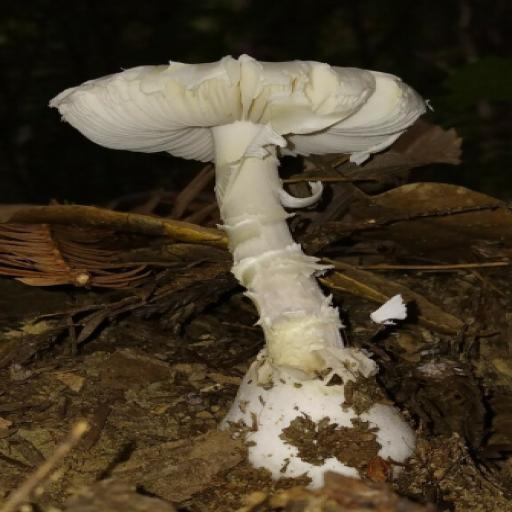mushroom: (61, 54, 422, 483)
